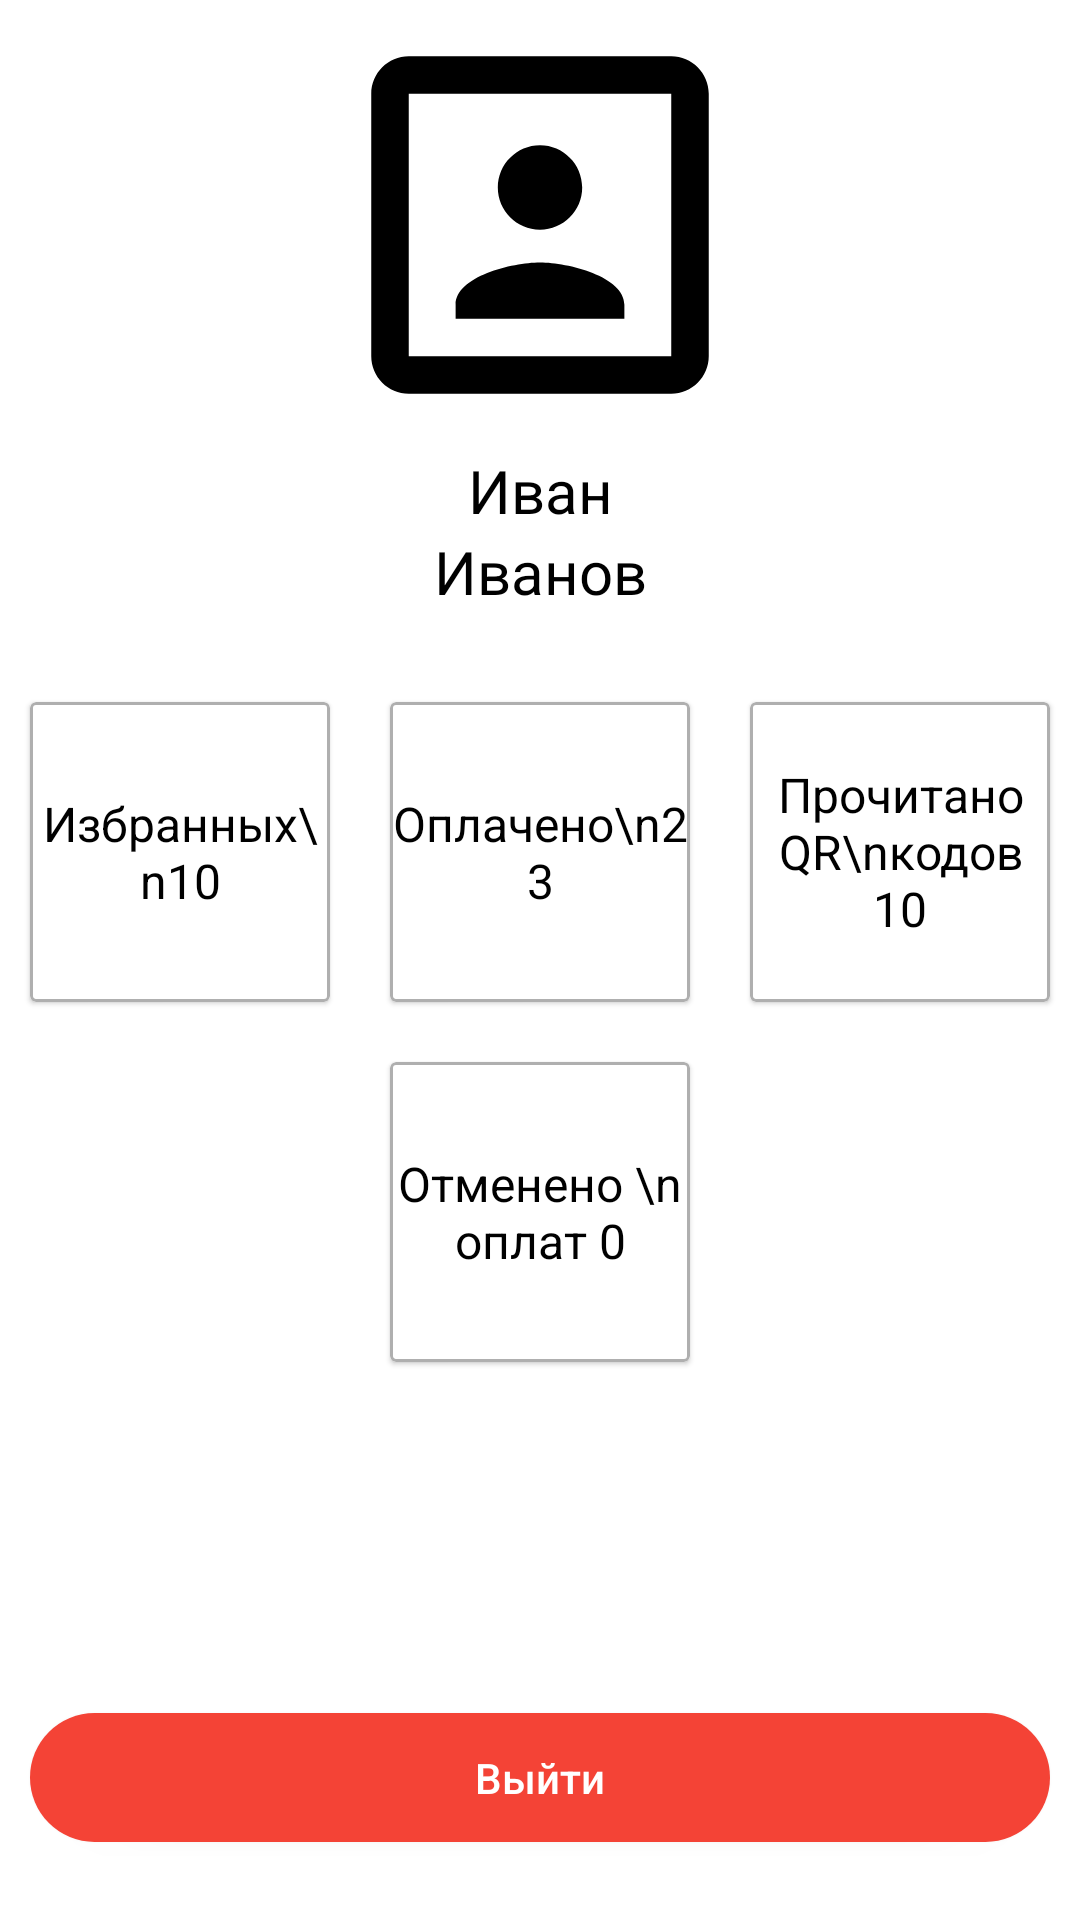

Named icons in this screenshot (1080x1920) and their bounding boxes, rect(x1, y1, x2, y2):
profile: rect(371, 56, 709, 394)
